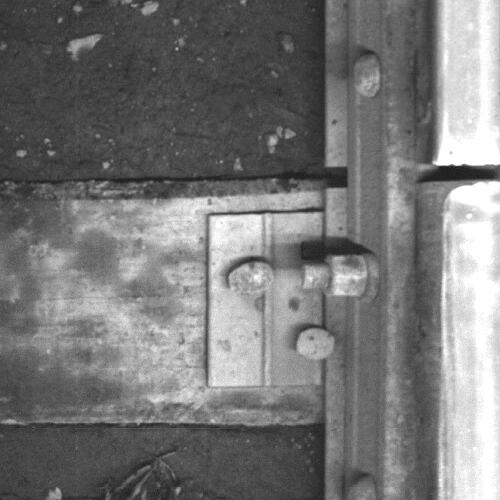do: (207, 212, 340, 387)
hole_do: (291, 230, 331, 268)
joint: (417, 161, 500, 187)
rail: (437, 1, 500, 500)
tie_wood: (1, 180, 329, 427)
